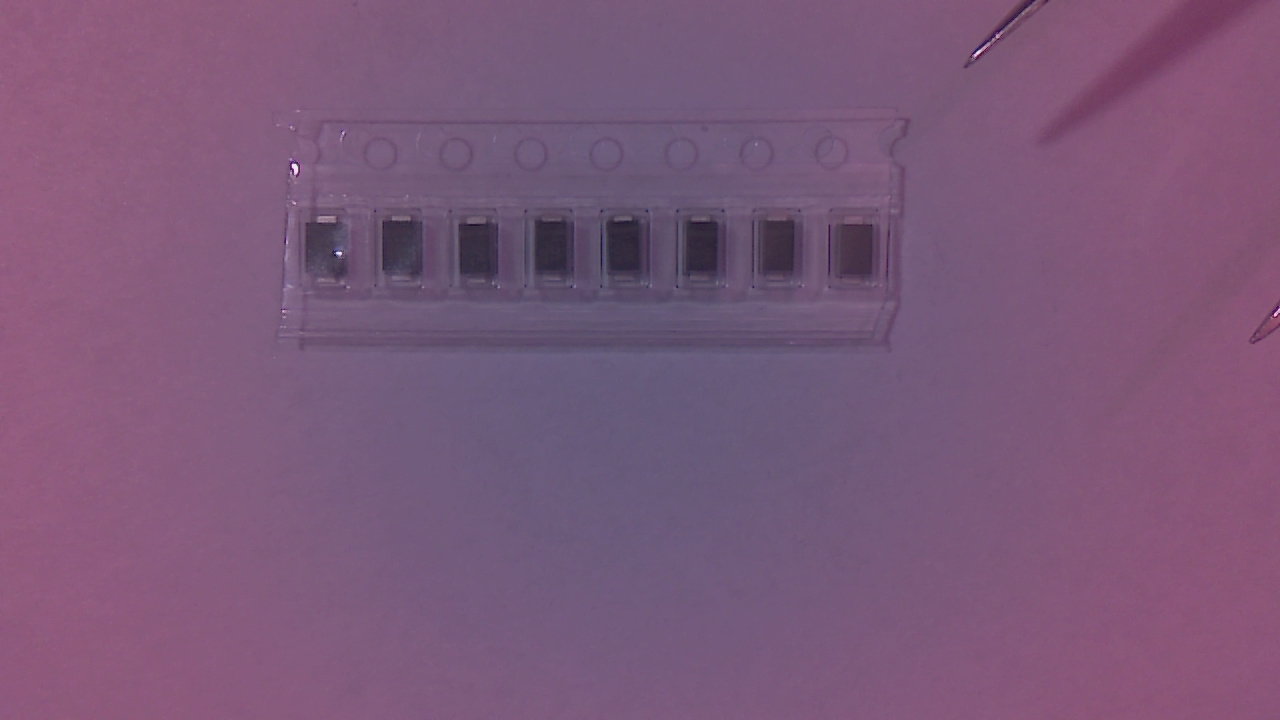Diode: (609, 216, 651, 289), (839, 219, 878, 294), (539, 218, 577, 294), (313, 219, 354, 289), (463, 222, 503, 293), (688, 218, 725, 290), (389, 219, 427, 288), (765, 219, 801, 291)
